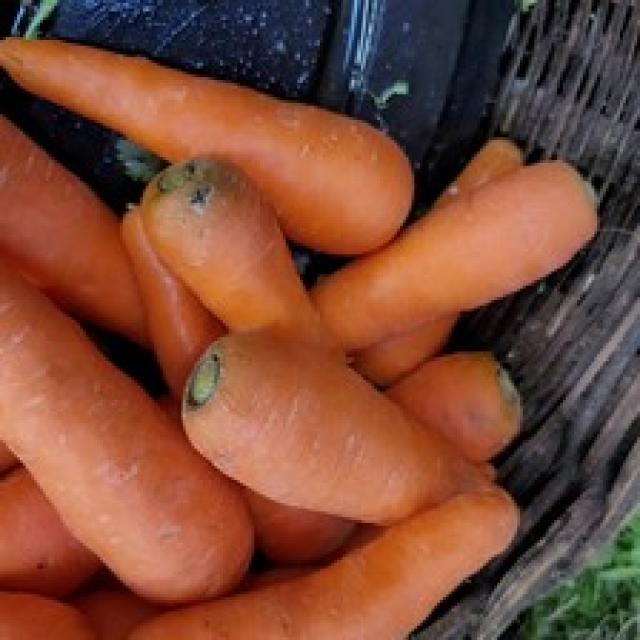Fresh_Carrot: (191, 331, 497, 525), (319, 157, 594, 371)
